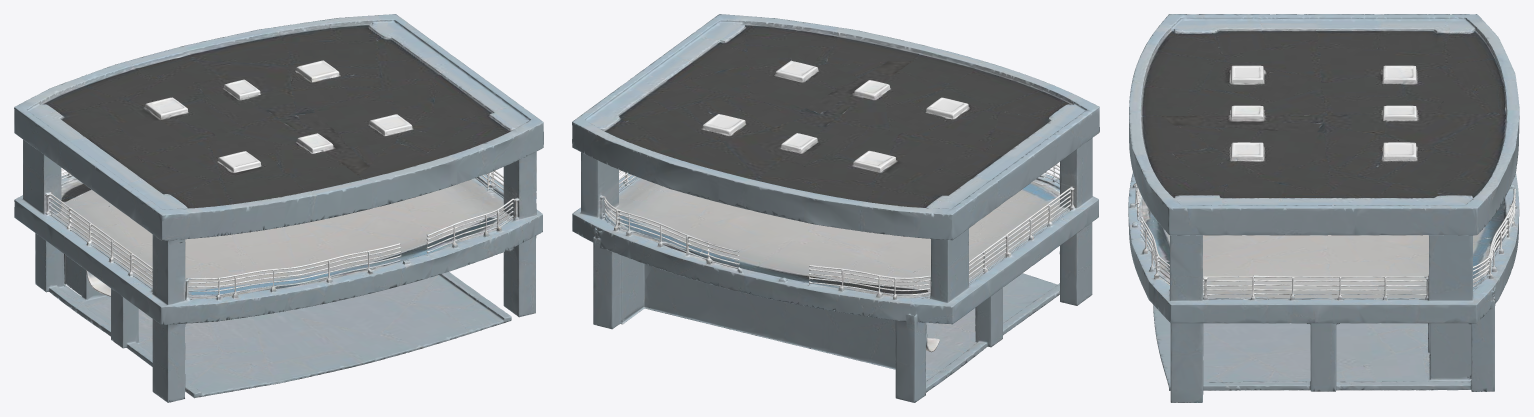
File: advanced.glb
3 renders of one model, left to right at view 1: azimuth 30°, elevation 25°; view 2: azimuth 150°, elevation 25°; view 3: azimuth 270°, elevation 25°, orthographic. The views are drawn at different scales.
Bounding box in the file's own units: 1.9 × 0.9124 × 1.62.
Materials: 1 (1 with a texture image).
